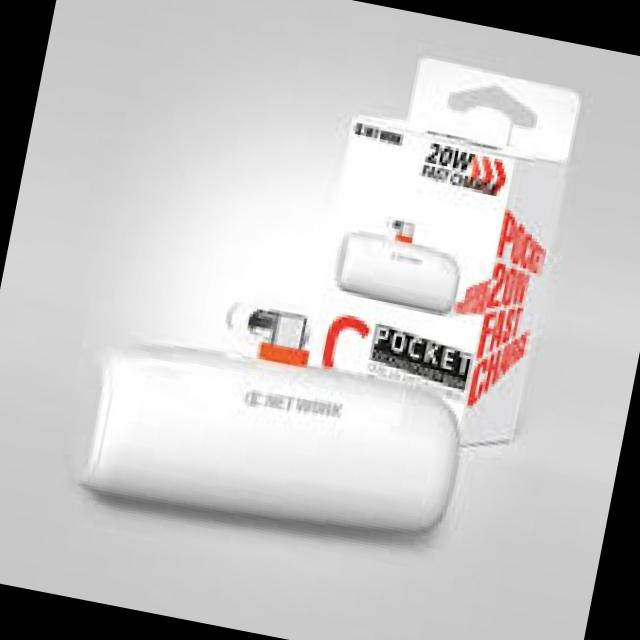portable-charger: (78, 274, 486, 559)
